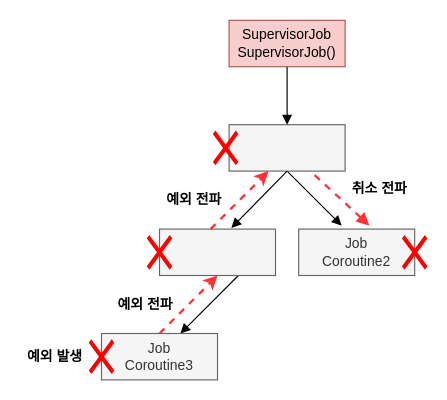
Some shapes in this 447 by 400 pixel diagram are drawn without their labels. Here are the shapes that lost their labels. From the top down, the box of each, then its label:
(228, 124, 345, 171): Job ParentCoroutine
(158, 228, 276, 276): Job Coroutine1
